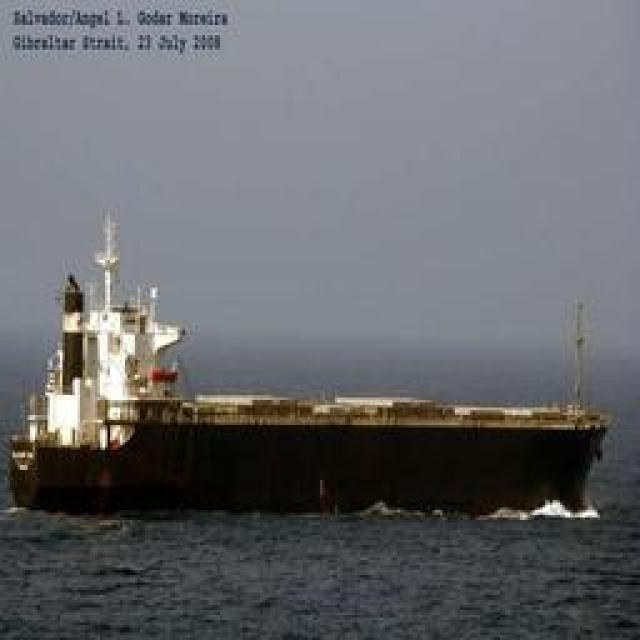Ship: (22, 396, 612, 491)
